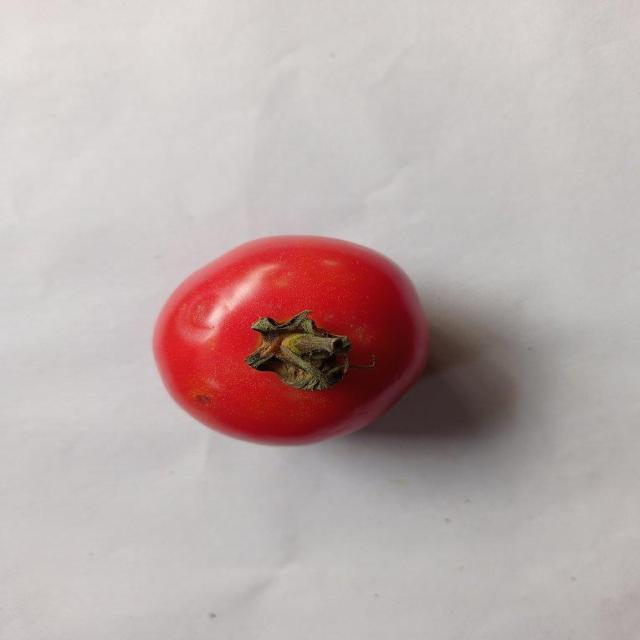Tomato: (151, 233, 435, 452)
